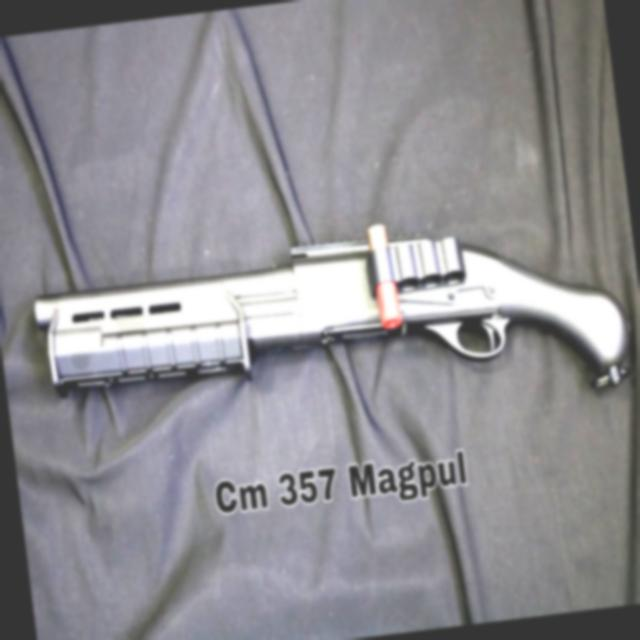shotgun: (17, 179, 640, 468)
